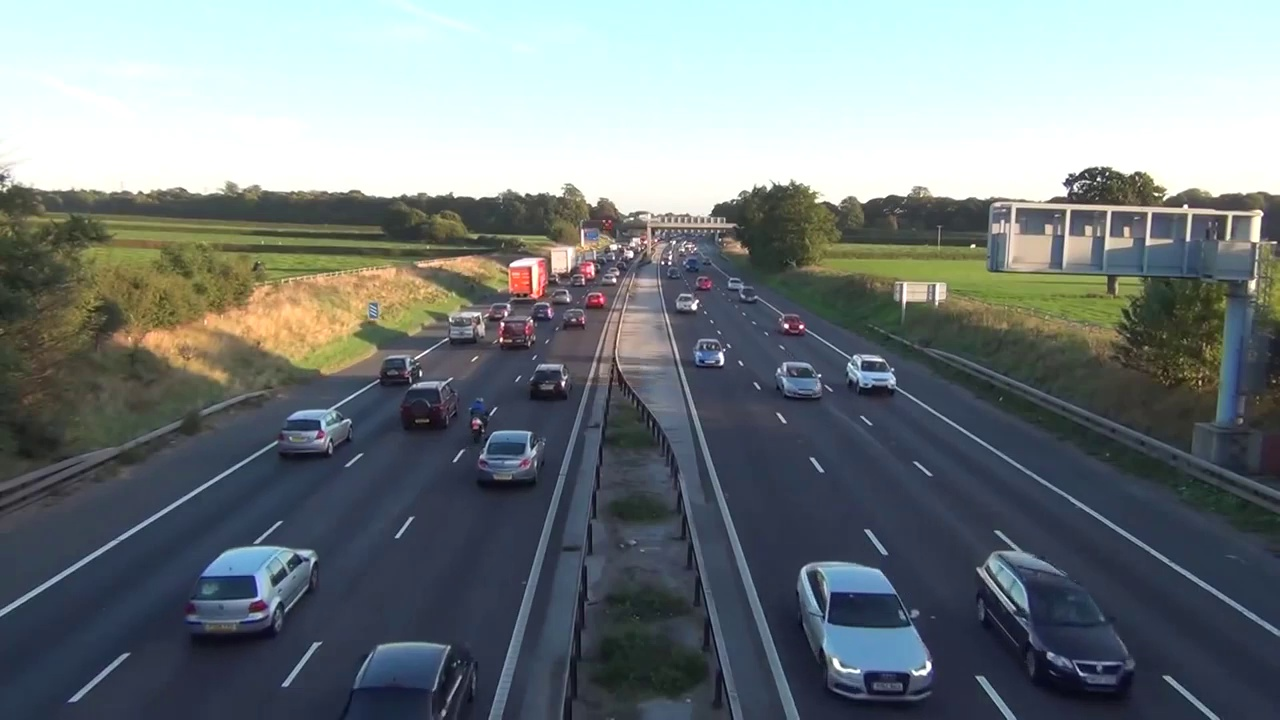bus: (971, 549, 1134, 699), (791, 558, 938, 708), (170, 535, 328, 644), (346, 633, 492, 713), (272, 401, 358, 458), (477, 429, 548, 490), (394, 377, 463, 432), (842, 344, 906, 397), (770, 362, 825, 402), (528, 362, 572, 397), (379, 352, 421, 386), (692, 336, 727, 369), (777, 312, 808, 338), (486, 300, 515, 322), (675, 293, 699, 313), (563, 308, 587, 328), (739, 286, 760, 307), (530, 302, 552, 322), (550, 288, 572, 305), (695, 276, 713, 292), (586, 293, 604, 307), (727, 278, 744, 292), (601, 273, 618, 287), (548, 273, 562, 287), (571, 275, 586, 288), (667, 268, 681, 280), (607, 267, 623, 276), (661, 258, 674, 268), (616, 260, 626, 269), (595, 263, 599, 273)
car: (508, 258, 547, 300), (550, 245, 577, 278)
jeep: (465, 397, 492, 433)
lorry: (498, 315, 540, 350), (448, 311, 487, 345), (576, 256, 582, 269)
minibus: (577, 262, 596, 281), (685, 257, 701, 273)
